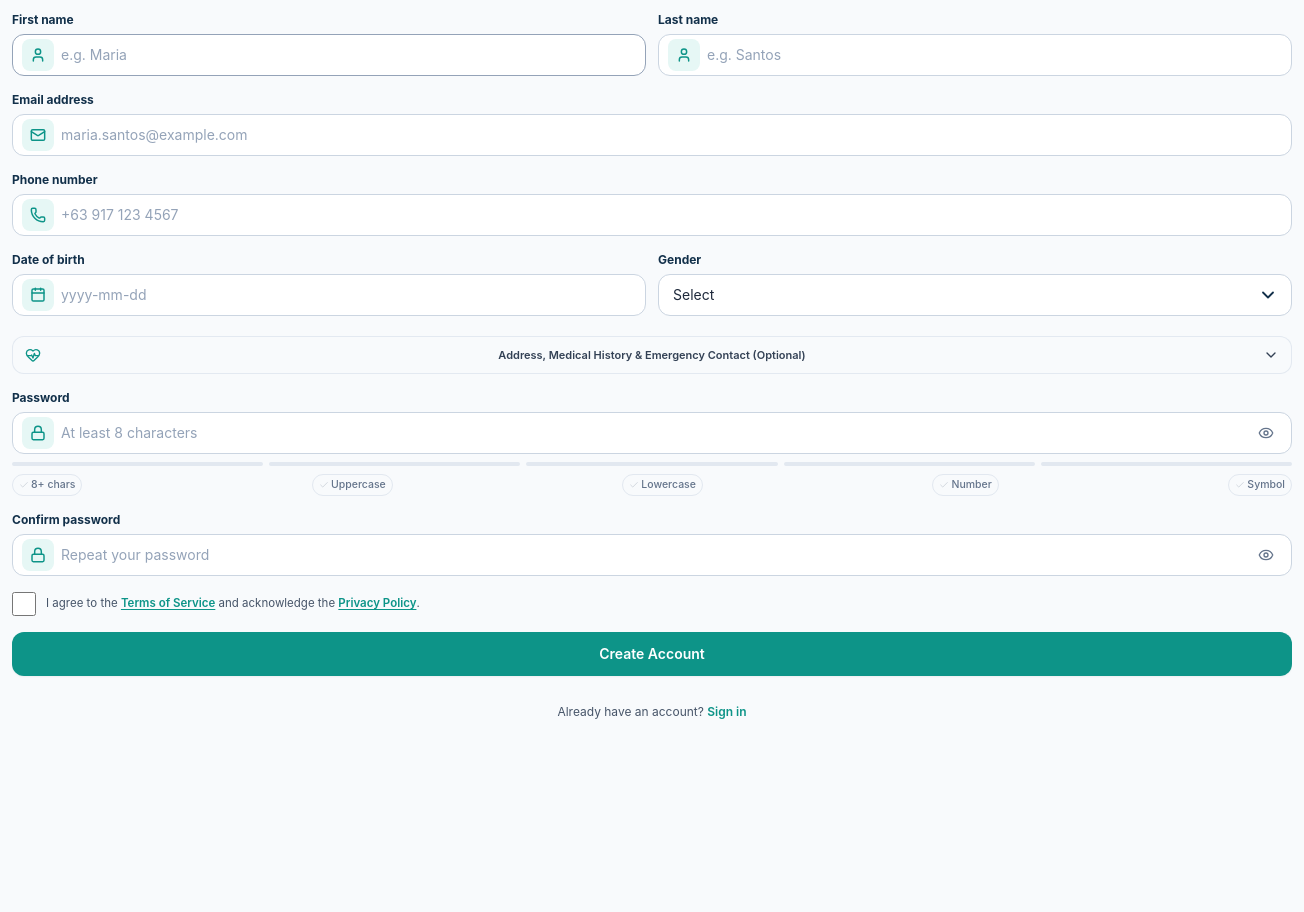
it: RegisterForm Name Input Restrictions › prevents words/letters in Phone number and Emergency contact phone, and blocks numbers in Emergency contact name
The width and height of the screenshot is (1304, 912).
Check: the button "Create Account" is enabled, box x1=12 y1=632 x2=1292 y2=676
Press a in the field labelled "Phone number", box x1=12 y1=194 x2=1292 y2=236
Press 9 in the field labelled "Phone number", box x1=12 y1=194 x2=1292 y2=236
In the field labelled "Phone number": (652, 215) x1=12 y1=194 x2=1292 y2=236, type "call +63 917 abc 123 4567"
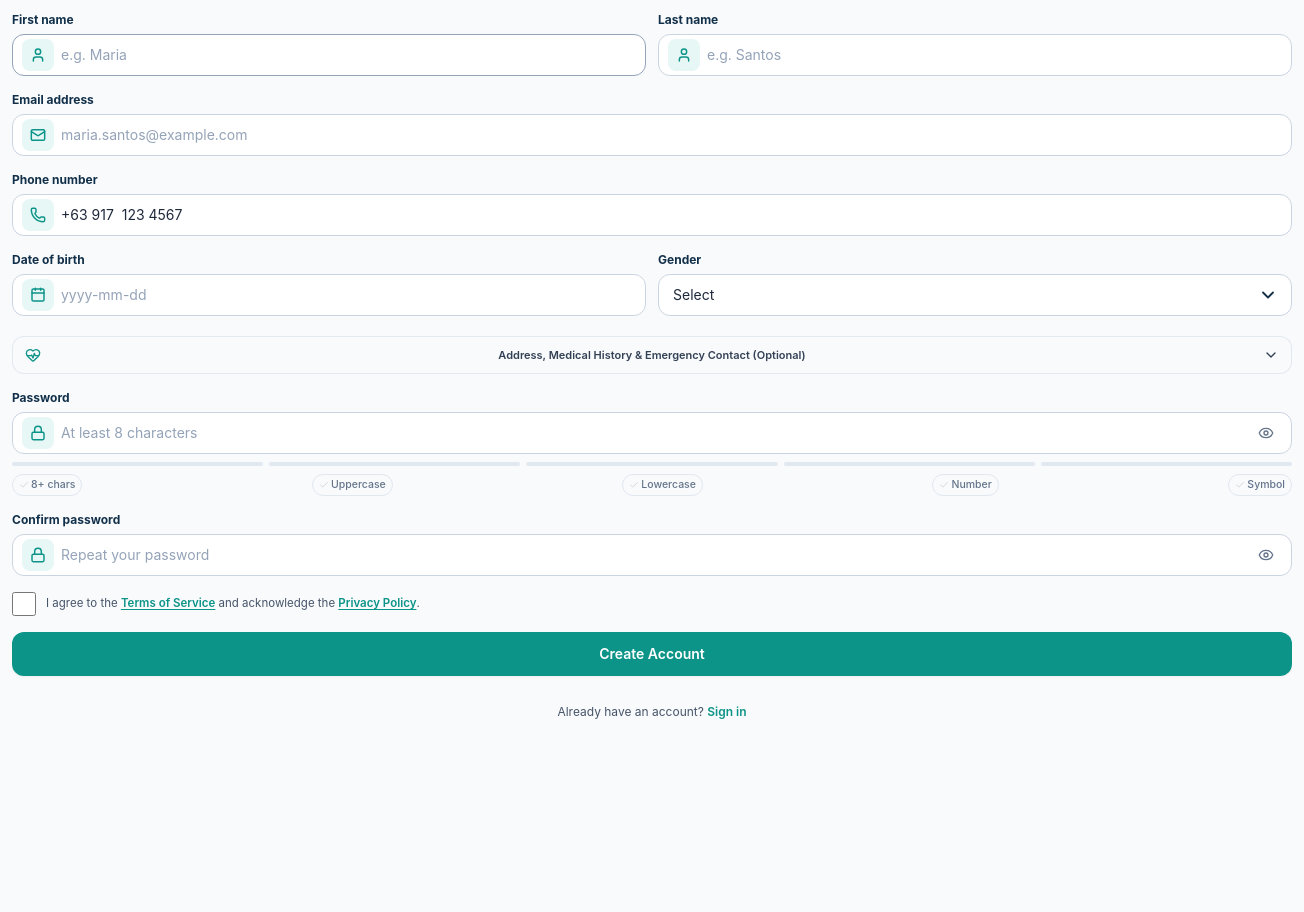
Check: the field labelled "Phone number" holds "+63 917  123 4567", box x1=12 y1=194 x2=1292 y2=236
Click the button "Address, Medical History & Emergency Contact (Optional)": (652, 355) x1=12 y1=336 x2=1292 y2=374
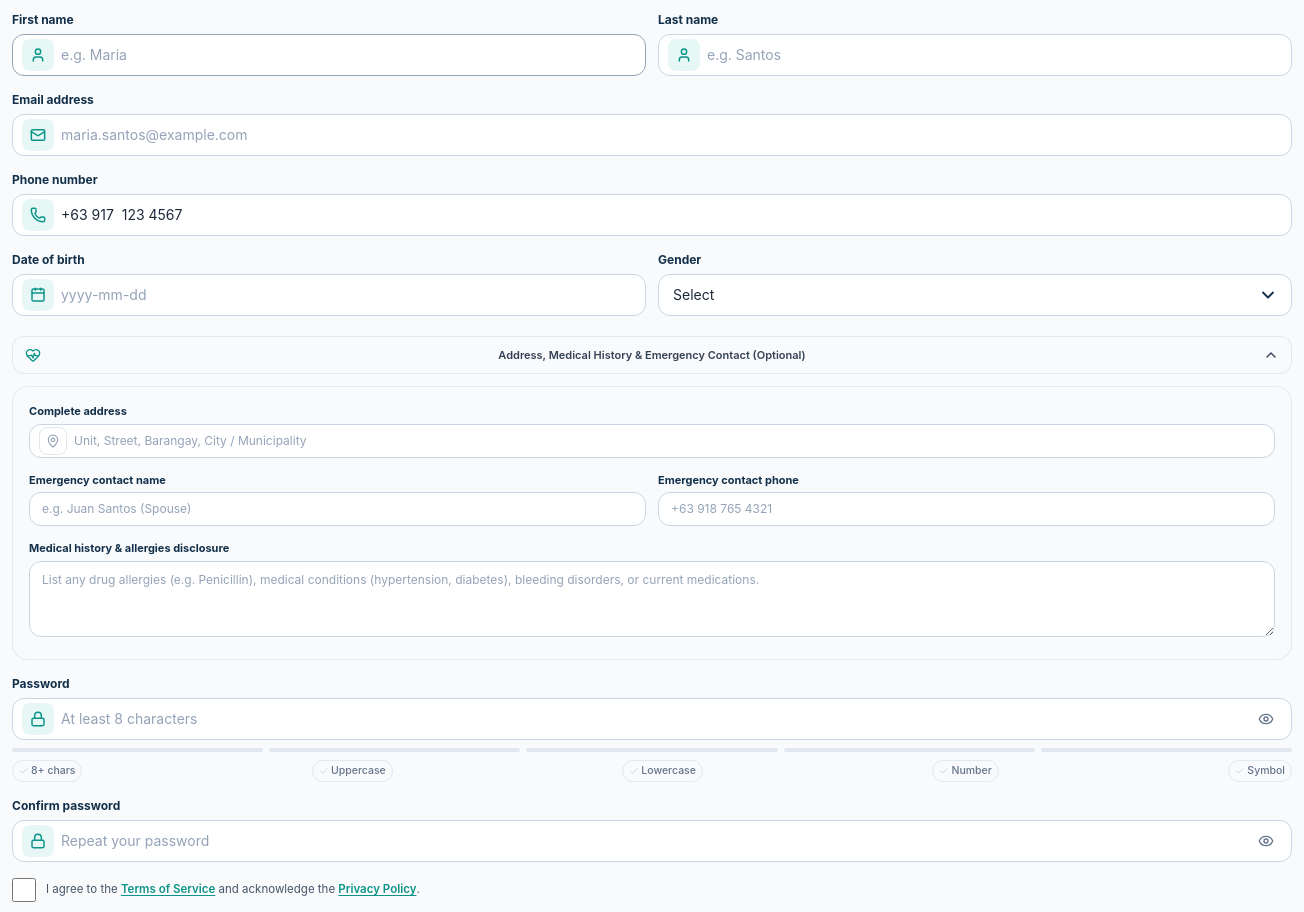
Check: the button "Address, Medical History & Emergency Contact (Optional)" is expanded, box x1=12 y1=336 x2=1292 y2=374
Press 4 in the field labelled "Emergency contact name", box x1=29 y1=492 x2=646 y2=526
In the field labelled "Emergency contact name": (338, 509) x1=29 y1=492 x2=646 y2=526, type "Juan99 Santos (Spouse) 2"
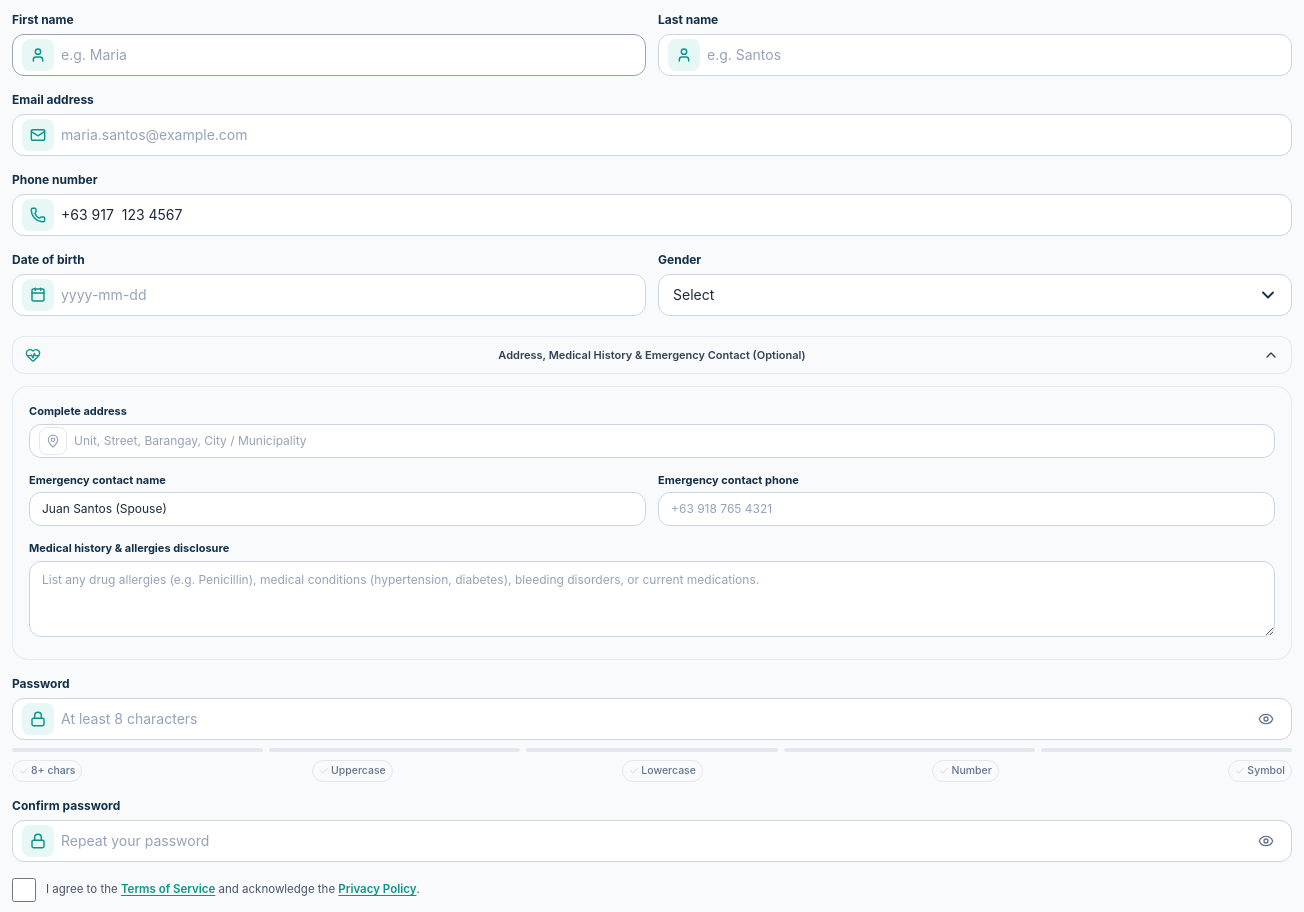
Check: the field labelled "Emergency contact name" holds "Juan Santos (Spouse) ", box x1=29 y1=492 x2=646 y2=526
Press x in the field labelled "Emergency contact phone", box x1=658 y1=492 x2=1275 y2=526
In the field labelled "Emergency contact phone": (966, 509) x1=658 y1=492 x2=1275 y2=526, type "tel +63 918 xyz 765 4321"
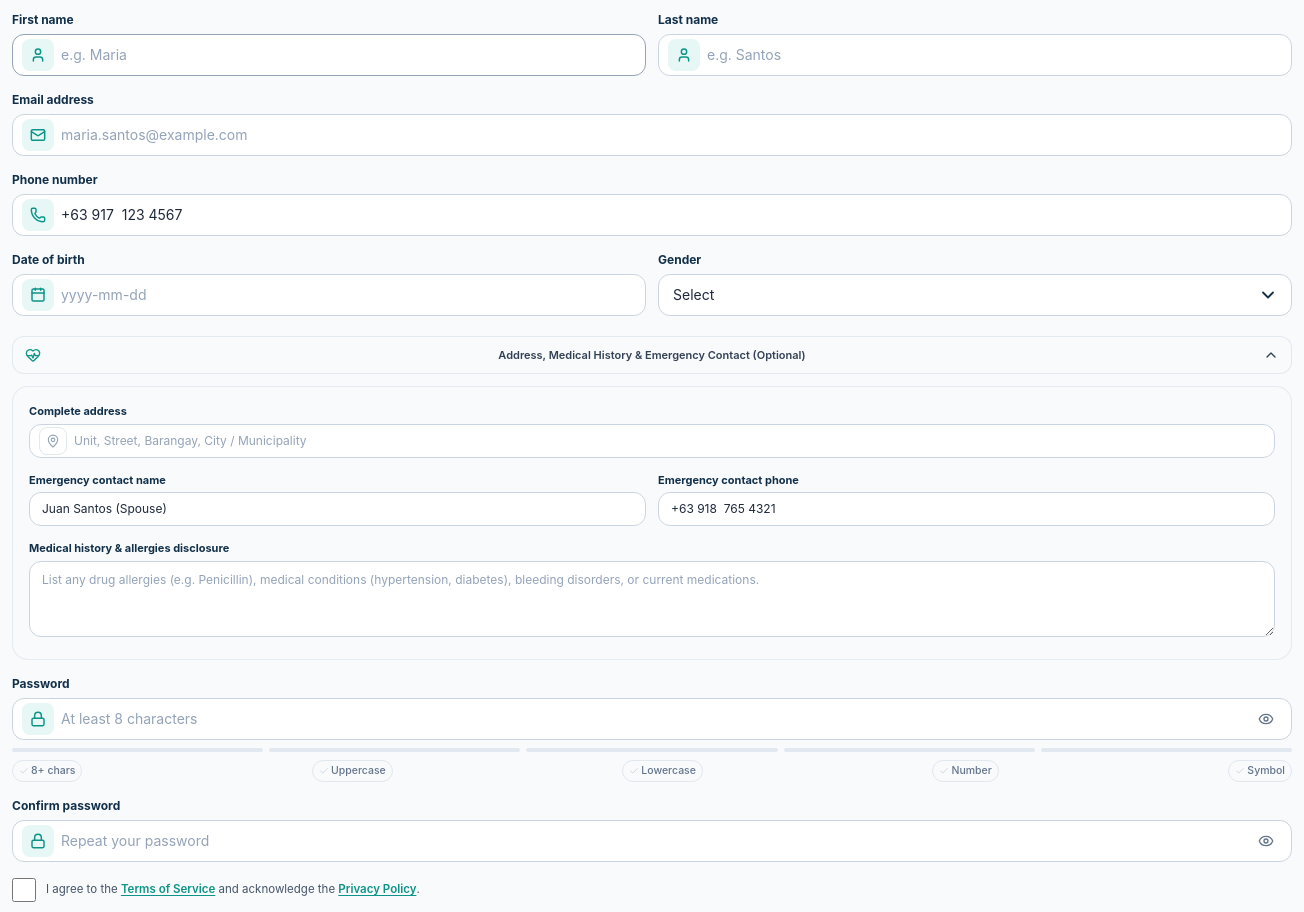
Check: the field labelled "Emergency contact phone" holds "+63 918  765 4321", box x1=658 y1=492 x2=1275 y2=526
